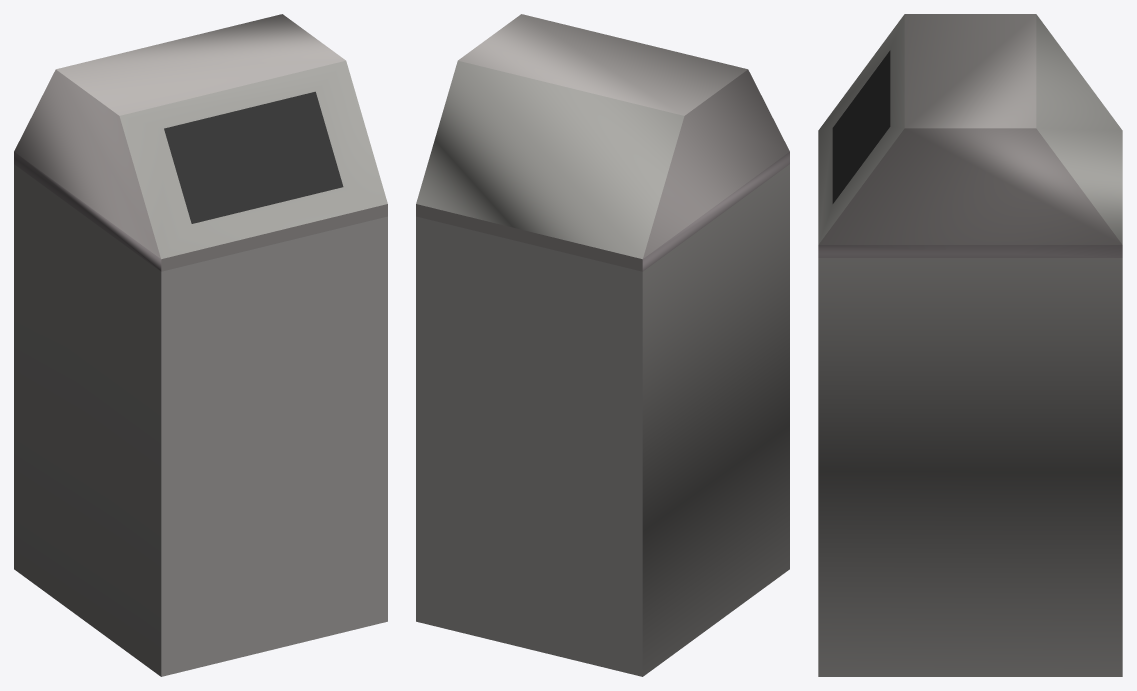
File: apoc_prop_31.glb
3 renders of one model, left to right at view 1: azimuth 30°, elevation 25°; view 2: azimuth 150°, elevation 25°; view 3: azimuth 270°, elevation 25°, orthographic. The views are drawn at different scales.
Visible parts, largest first — view 1: prop_033; view 2: prop_033; view 3: prop_033.
Boxes of the visible parts, x1,y1,x2,y2 form: prop_033: (14,14,387,676); prop_033: (416,14,789,676); prop_033: (818,14,1122,676).
Size of the model in its own units: 0.0983 by 0.2199 by 0.1105.
Materials: 1 (1 with a texture image).
